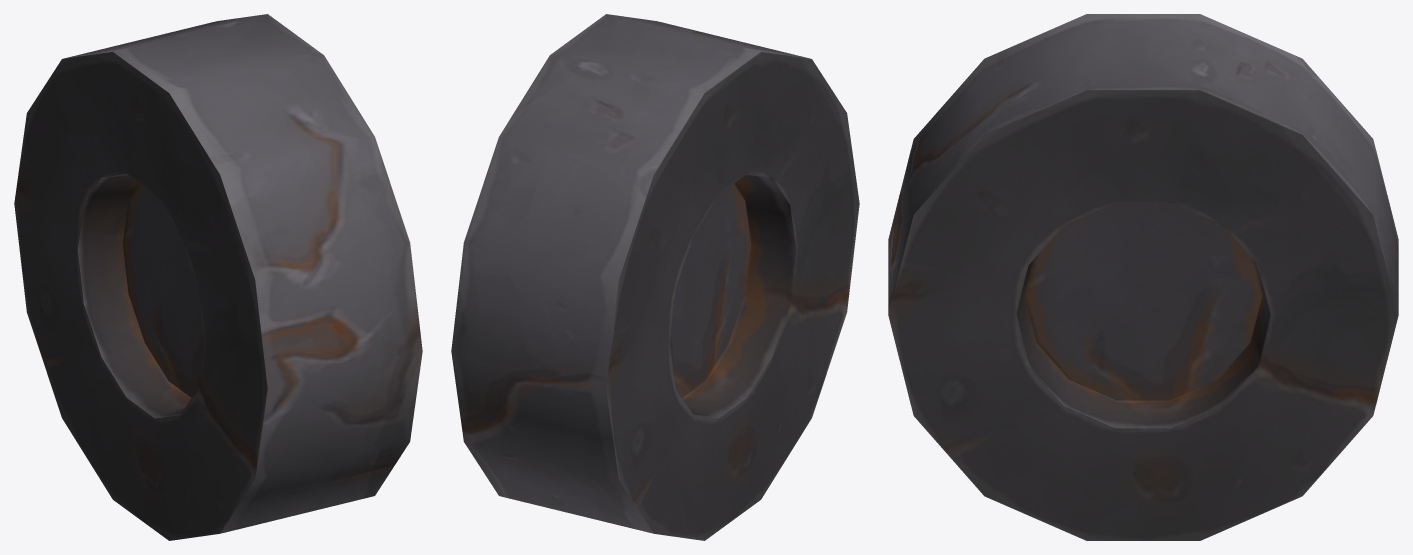
The model's file is Trolley_wheel.FBX.
The picture shows the model from 3 angles, left to right: view 1: azimuth 30°, elevation 25°; view 2: azimuth 150°, elevation 25°; view 3: azimuth 270°, elevation 25°; orthographic projection.
Parts seen in each view (by area): view 1: Trolley_wheel; view 2: Trolley_wheel; view 3: Trolley_wheel.
Part boxes in pixels (box(x1,y1,x2,y2)): Trolley_wheel: box(14, 14, 422, 540); Trolley_wheel: box(451, 14, 859, 540); Trolley_wheel: box(888, 14, 1398, 540).
Bounding box in the file's own units: 0.098 × 0.2708 × 0.2777.
